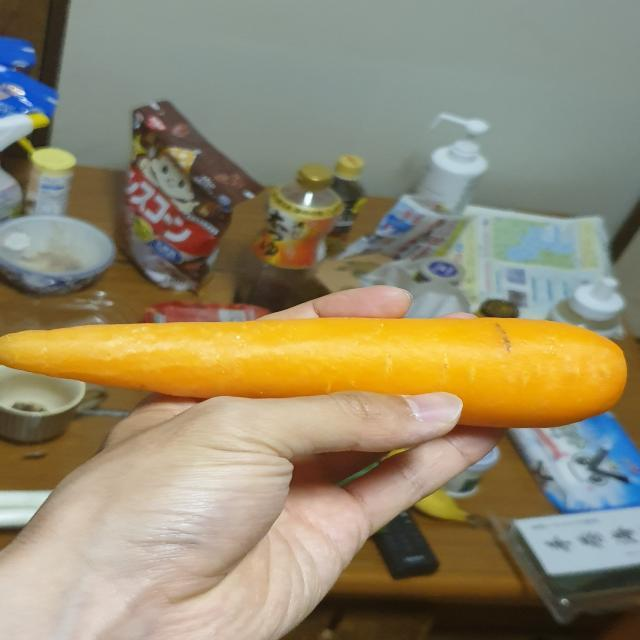carrot: (1, 313, 637, 433)
